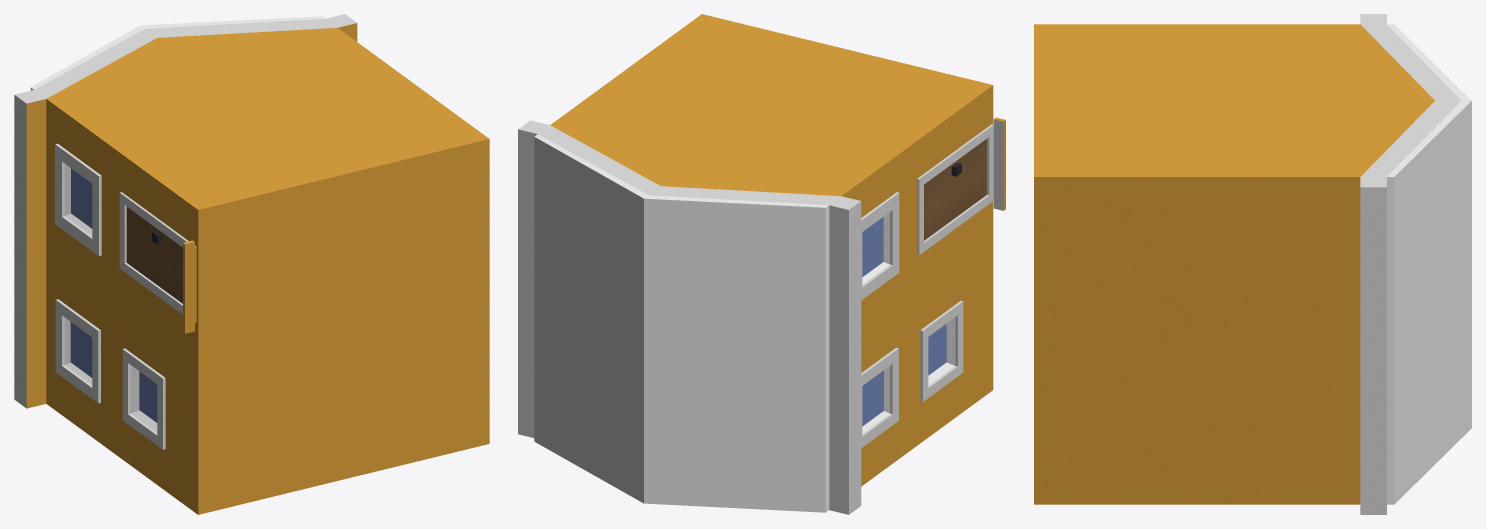
The model's file is venice_murano_11.fbx.
3 views of the same model, side by side, from view 1: azimuth 30°, elevation 25°; view 2: azimuth 150°, elevation 25°; view 3: azimuth 270°, elevation 25° (orthographic). The views are drawn at different scales.
Parts seen in each view (by area): view 1: Cube.333; view 2: Cube.333; view 3: Cube.333.
Part boxes in pixels (x1,y1,x2,y2): Cube.333: (14, 14, 489, 514); Cube.333: (518, 14, 1005, 514); Cube.333: (1034, 14, 1471, 514).
Bounding box in the file's own units: 897 × 790 × 956.
